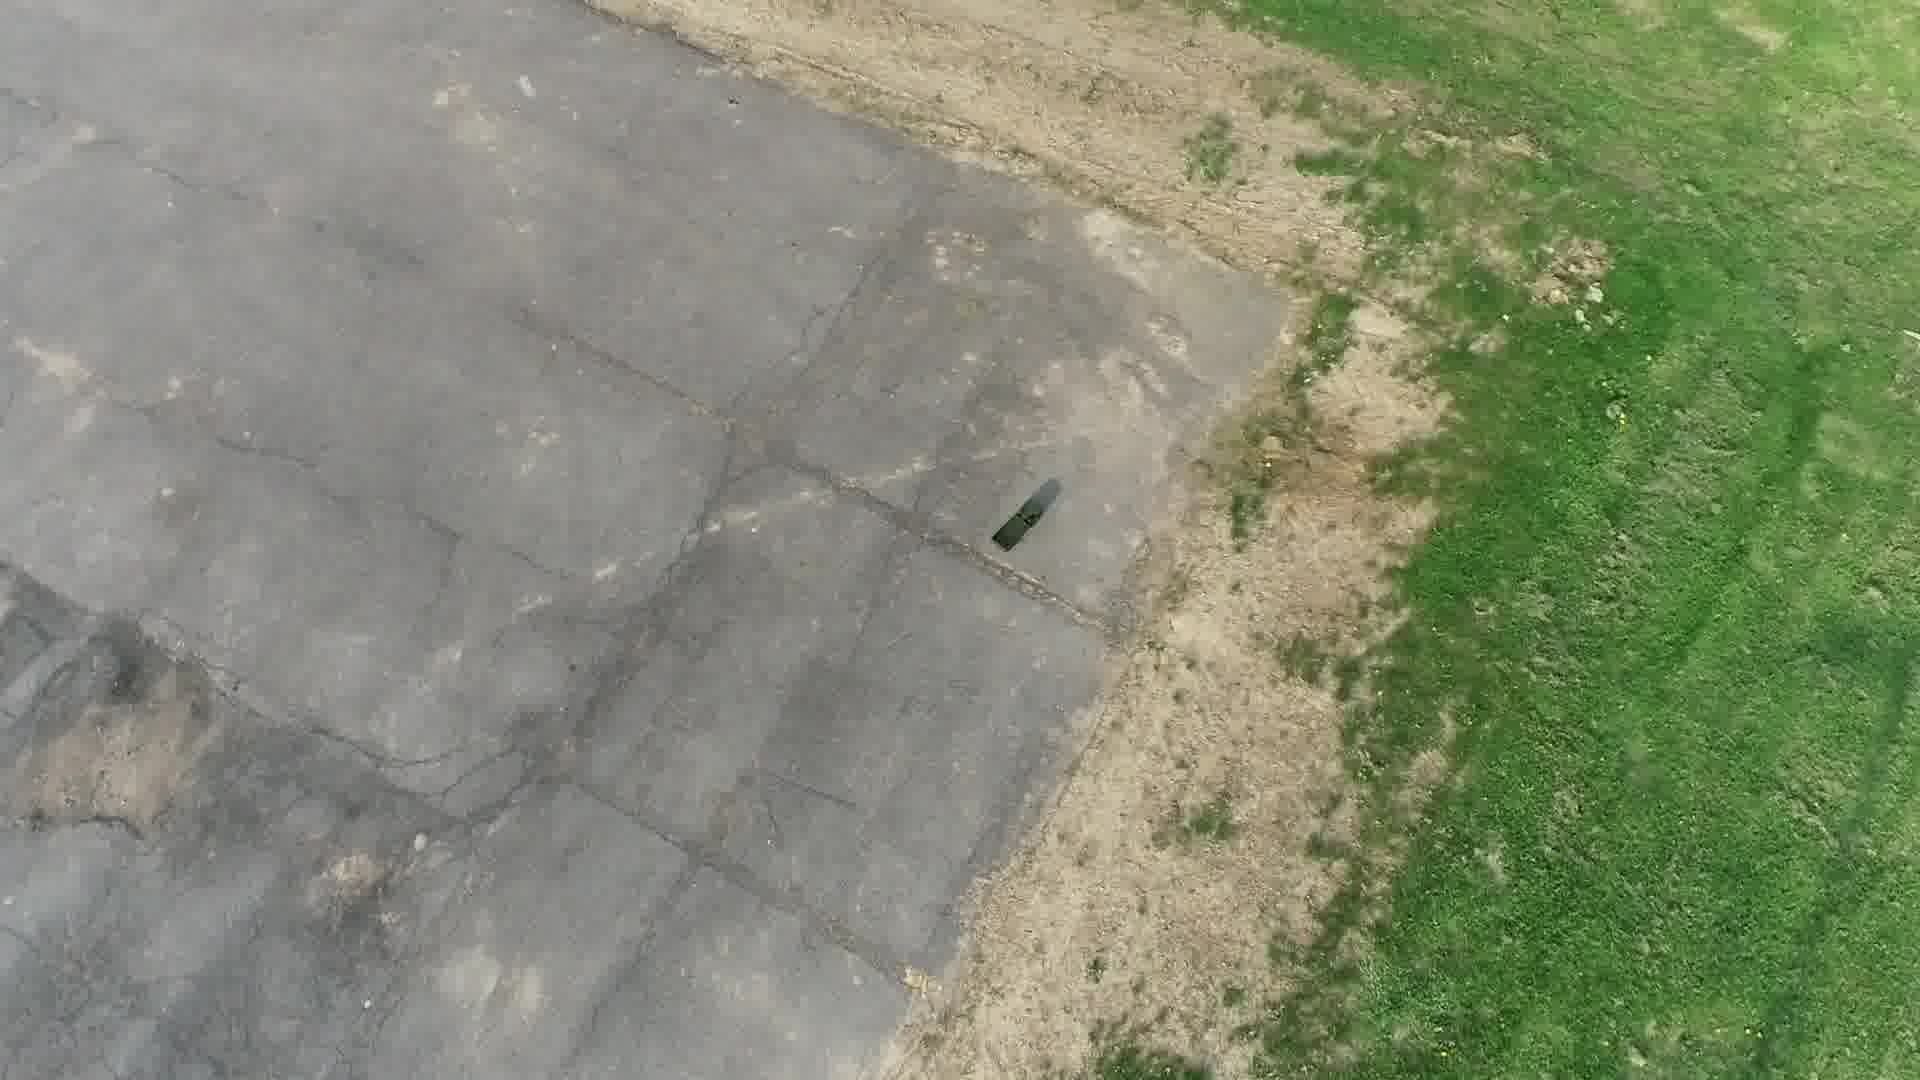transporter9: (984, 500, 1051, 555)
